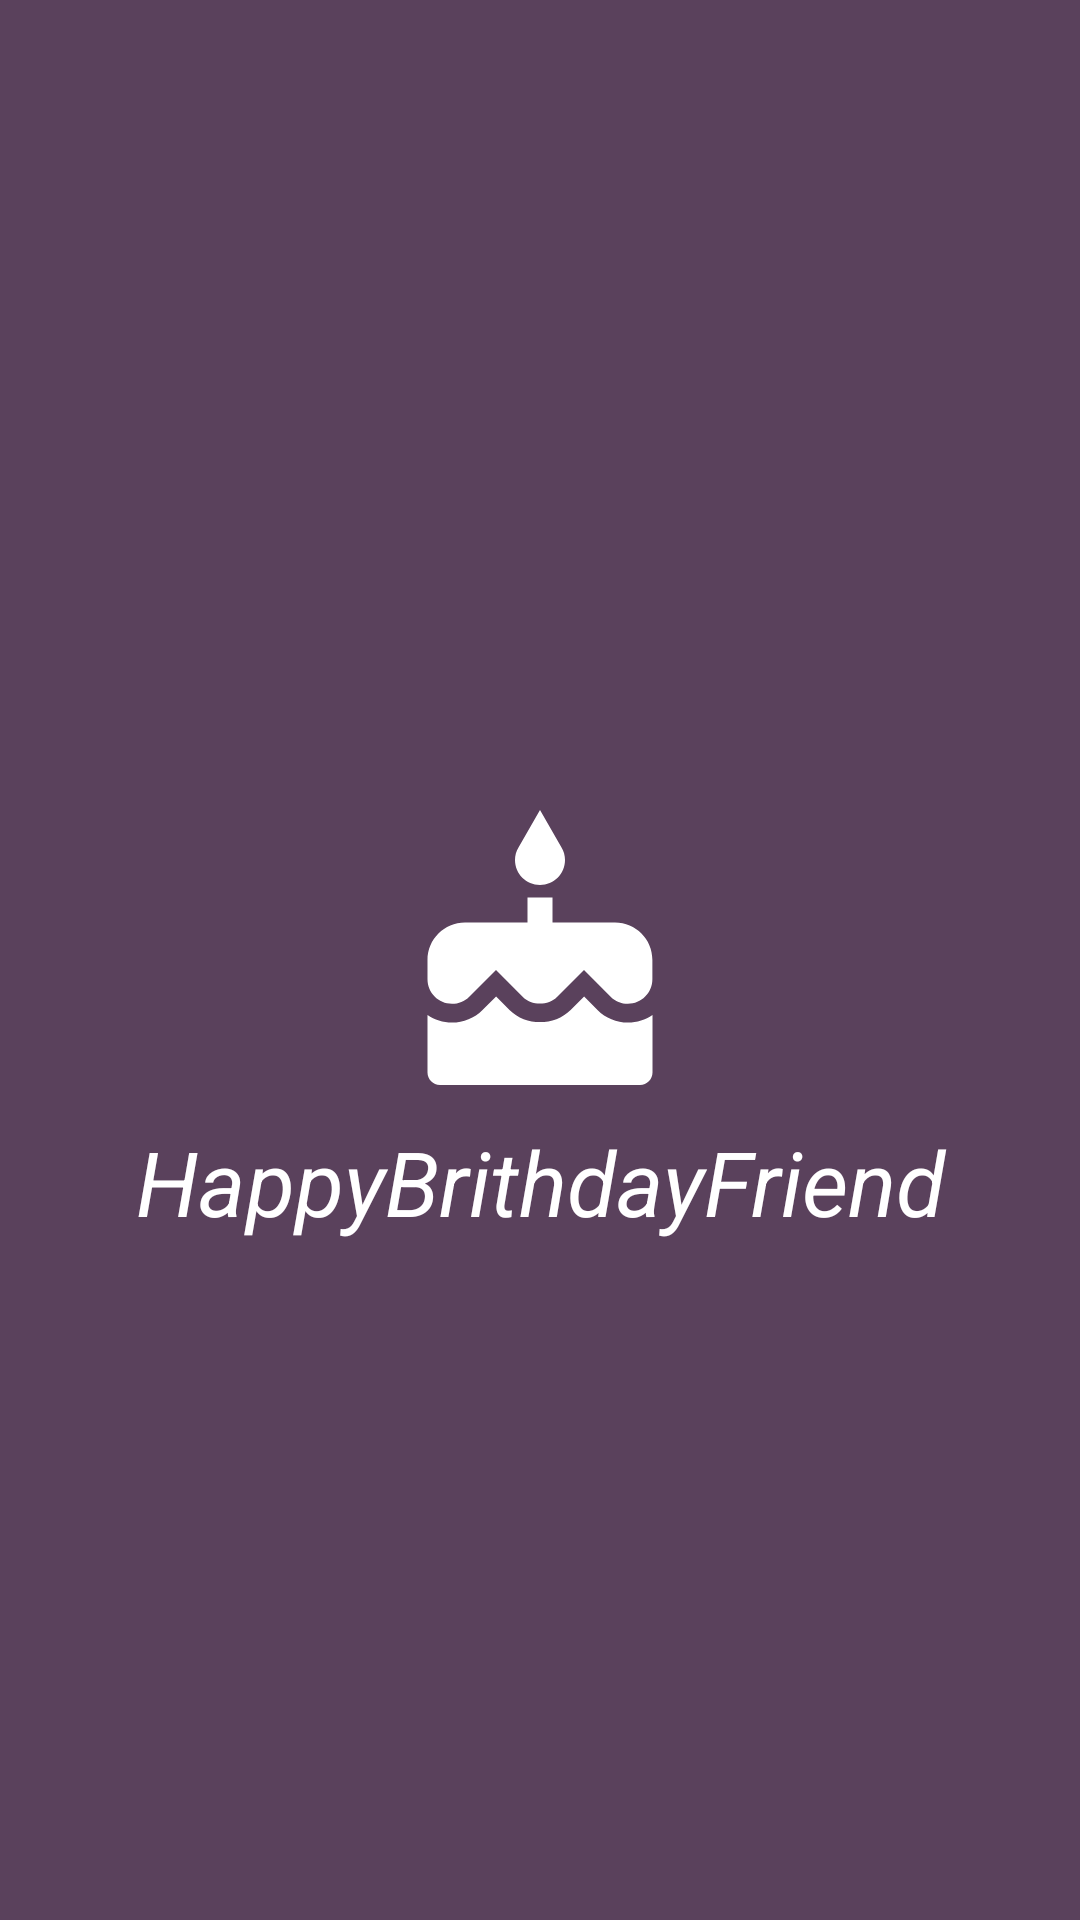

Screen size 1080 × 1920. Icon name, then its box in pixels as (x1, y1, x2, y2):
cake: (427, 810, 653, 1085)
